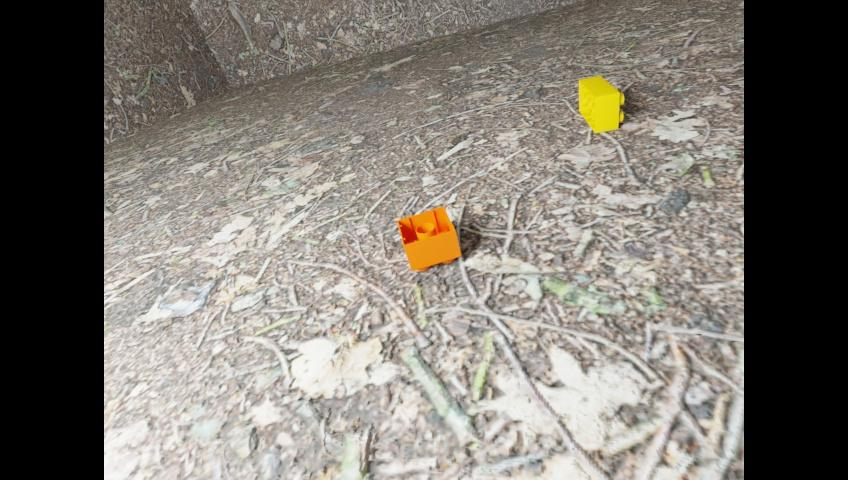2x2_orange: (397, 206, 460, 271)
4x2_yellow: (579, 75, 623, 132)
